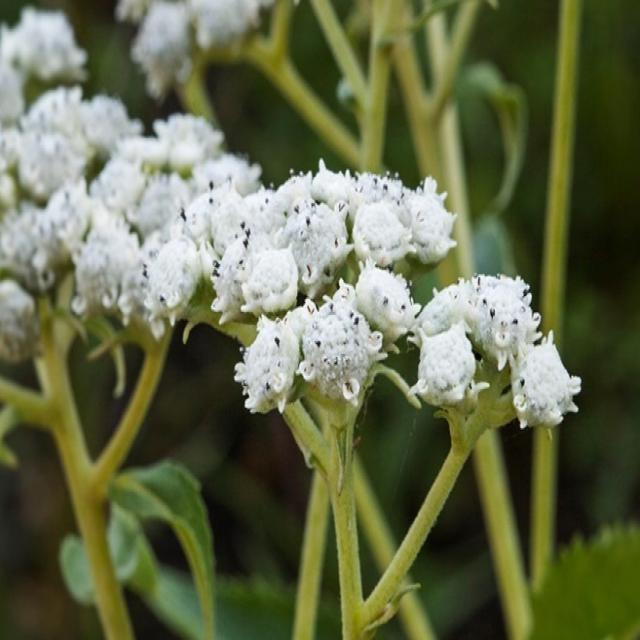Poisonous-Parthenium: (2, 0, 578, 511)
